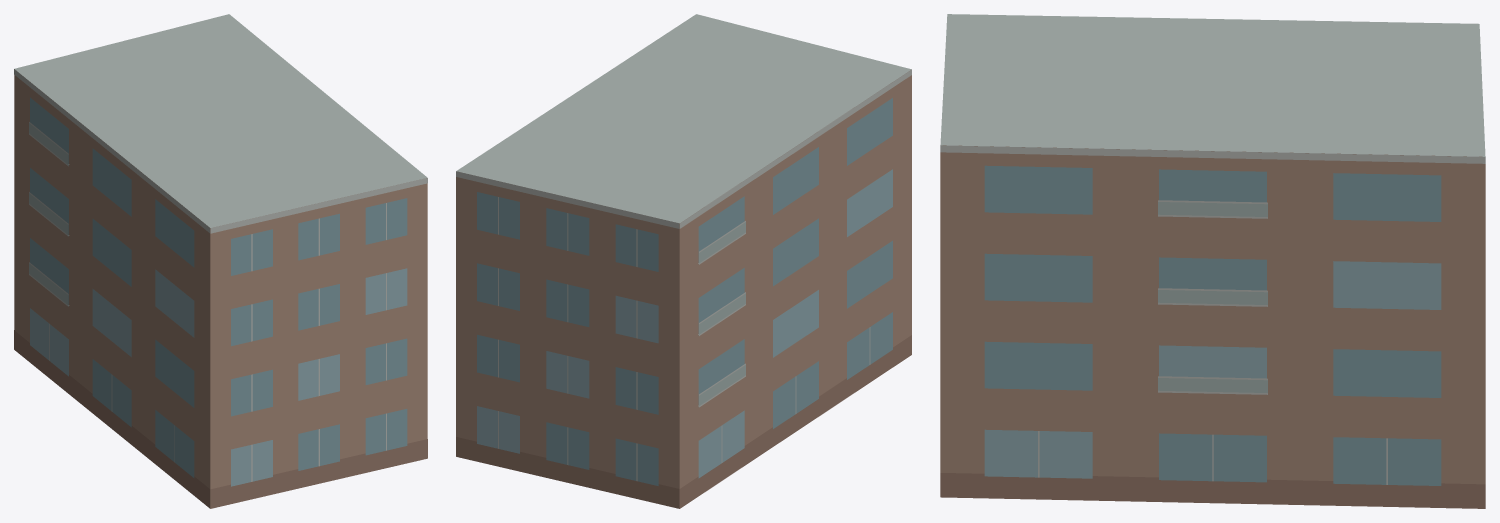
The model's file is survey-upis-32633163.glb.
The picture shows the model from 3 angles, left to right: view 1: azimuth 30°, elevation 25°; view 2: azimuth 150°, elevation 25°; view 3: azimuth 270°, elevation 25°; orthographic projection. The views are drawn at different scales.
Visible parts, largest first — view 1: survey-upis-32633163.tmp; view 2: survey-upis-32633163.tmp; view 3: survey-upis-32633163.tmp.
Boxes of the visible parts, x1,y1,x2,y2 form: survey-upis-32633163.tmp: [14, 14, 427, 508]; survey-upis-32633163.tmp: [456, 14, 911, 508]; survey-upis-32633163.tmp: [940, 14, 1485, 508].
Bounding box in the file's own units: 10.63 × 12.2 × 17.13.
